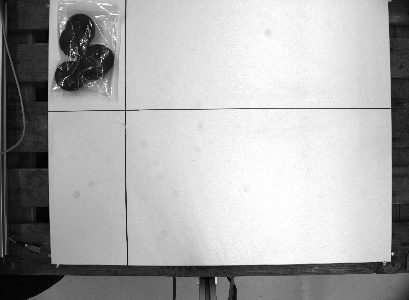t1: (51, 1, 126, 101)
